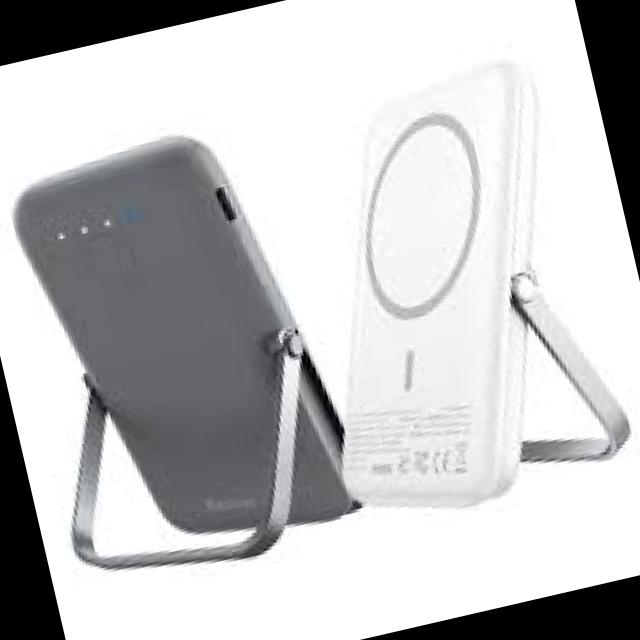power_bank: (0, 100, 377, 581), (253, 49, 625, 532)
